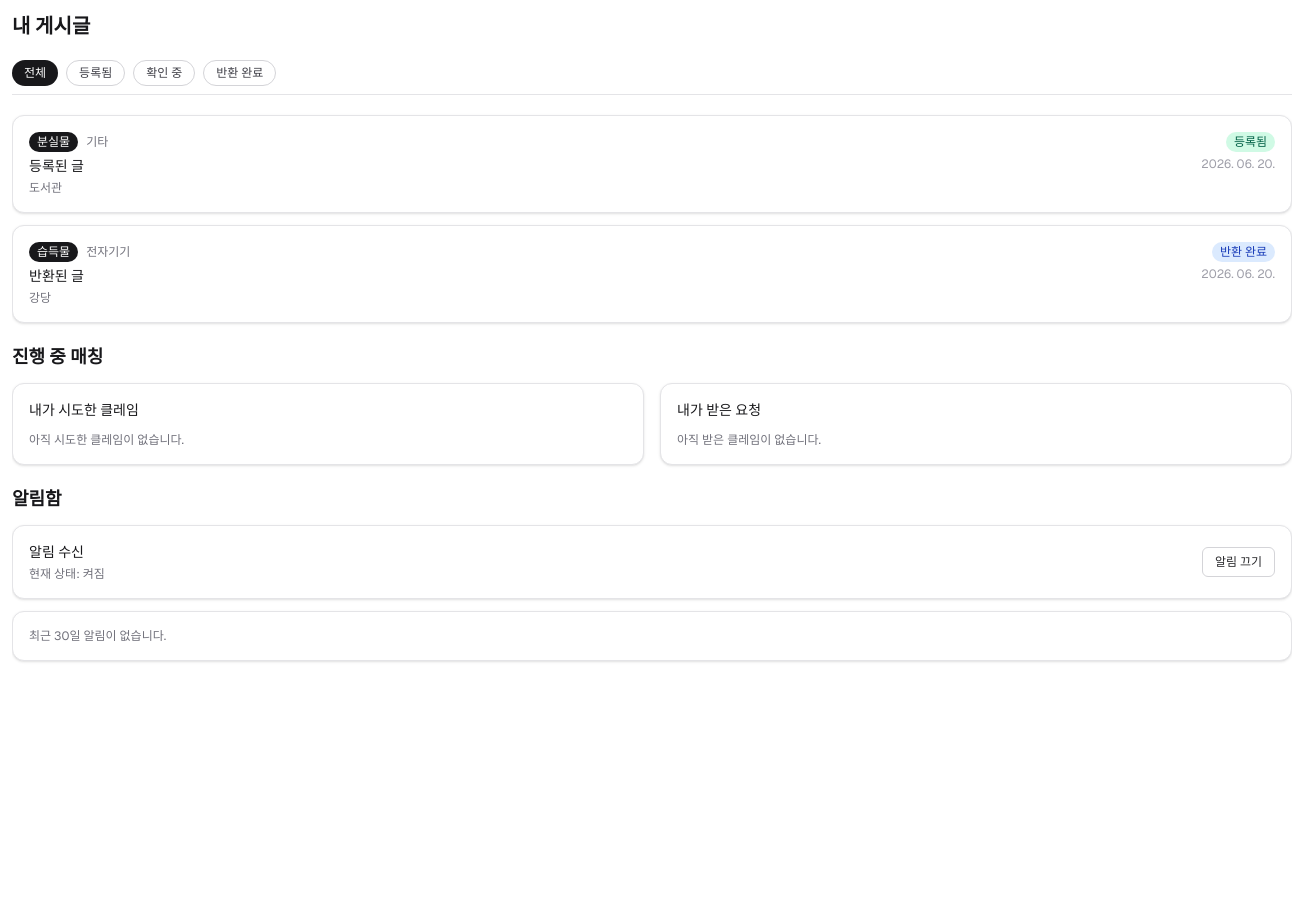
Test: MyPage › filters my posts by tab while keeping match sections visible
Expected: the text "등록된 글" is shown, [29, 157, 84, 175]
Step 1. Click the button "반환 완료" → x=240, y=73, box [203, 60, 276, 86]
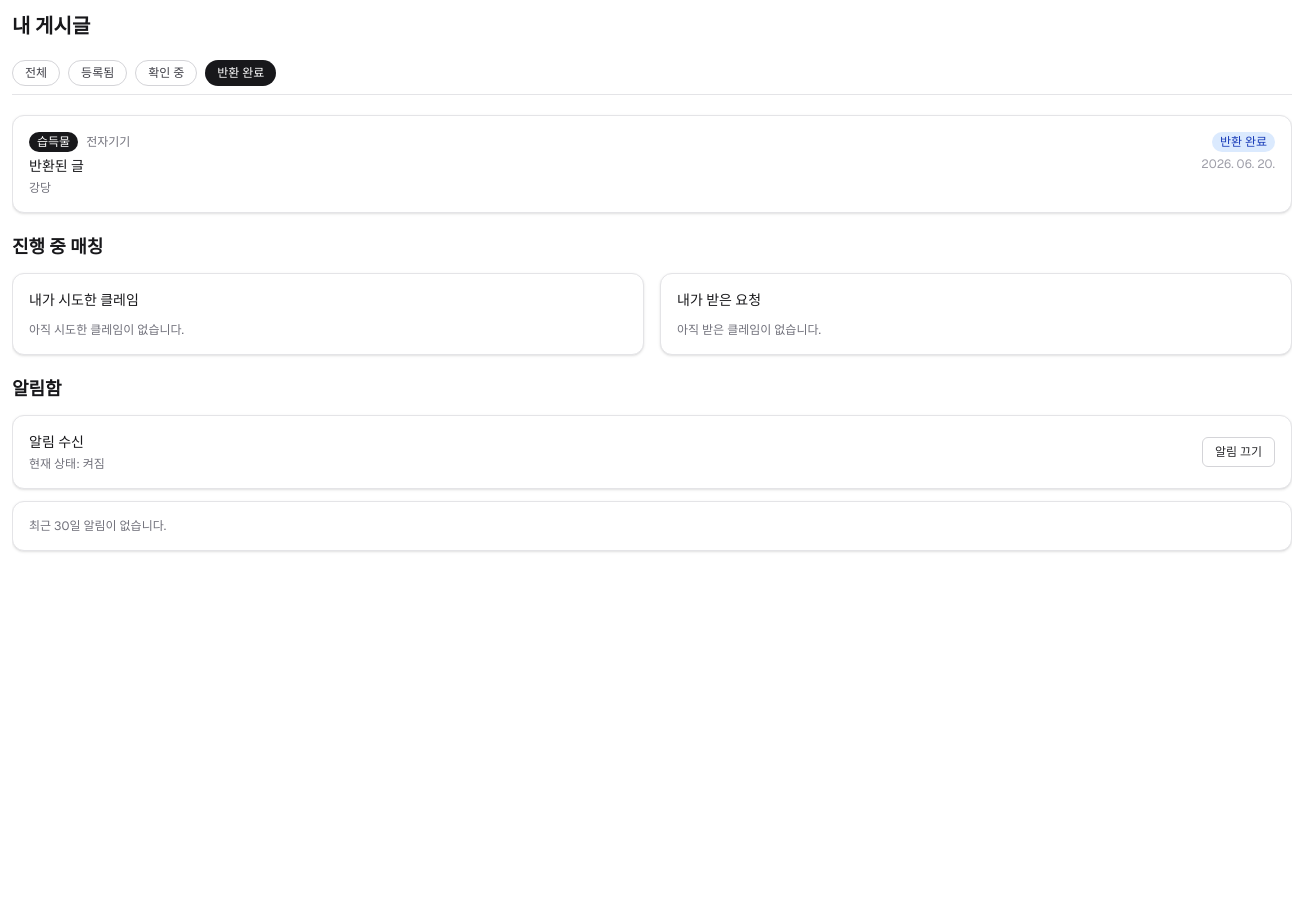
Expected: the text "반환된 글" is shown, [29, 157, 84, 175]
Now the link "등록된 글" is gone
